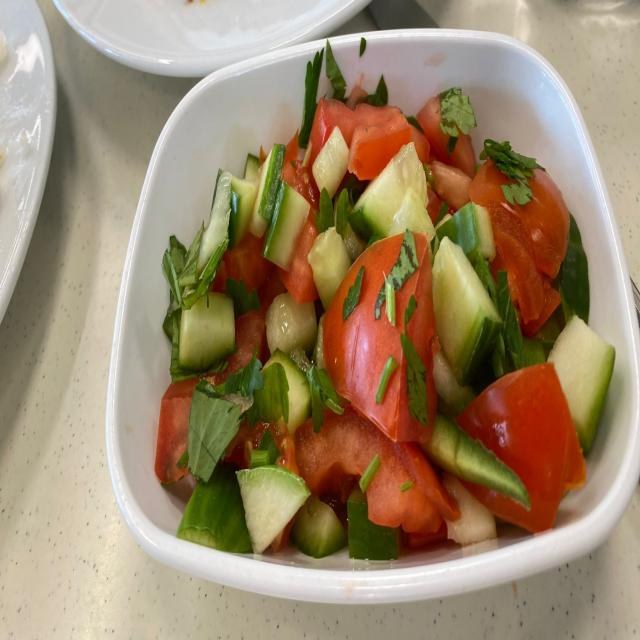yan_yemek: (138, 58, 606, 584)
